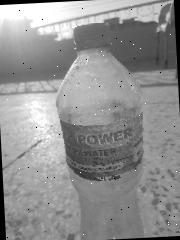plastic: (51, 20, 149, 240)
